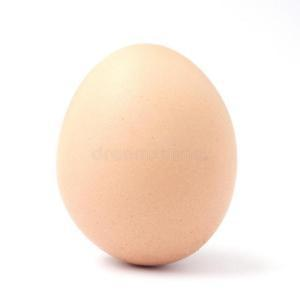Egg: (34, 26, 258, 279)
